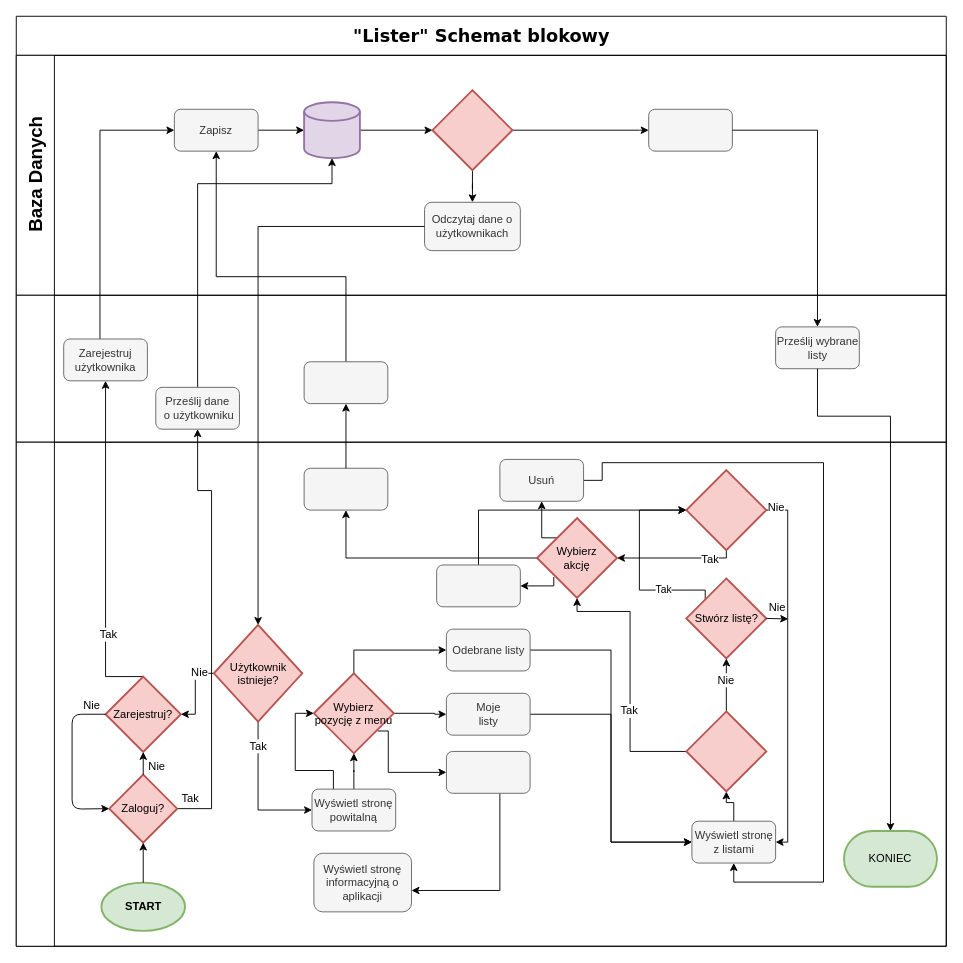
The diagram is 963 pixels wide and 963 high, and some of its shapes have lost their labels. The box of each missing label's shape, as (x1, y1, x2, y2) in pixels:
.NET WebAPI: (15, 294, 946, 442)
Edytuj: (436, 564, 520, 607)
Klient mobilny: (15, 441, 946, 946)
Lista istnieje?: (685, 710, 767, 792)
O aplikacji: (445, 751, 530, 793)
Odczytaj dane o listach: (648, 108, 732, 151)
Rodzaj akcji: (431, 89, 513, 171)
Wyślij: (303, 467, 388, 510)
Wyślij listę: (303, 361, 388, 404)
Zapisz?: (685, 469, 767, 551)
